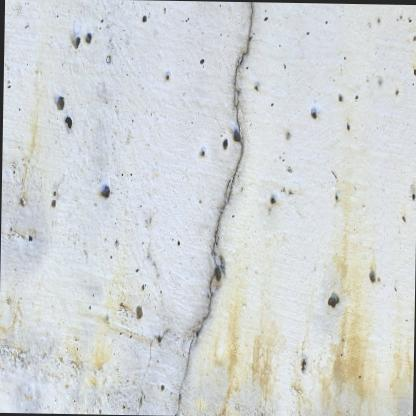crack: (173, 1, 252, 415)
